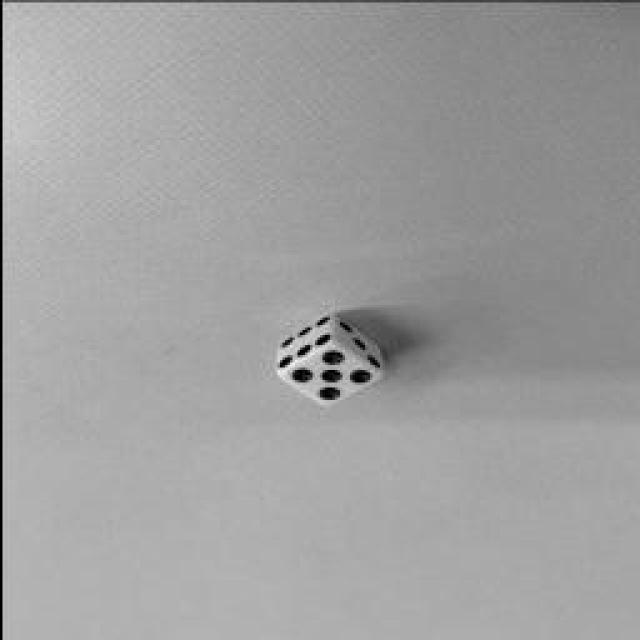dice_5: (274, 342, 381, 406)
